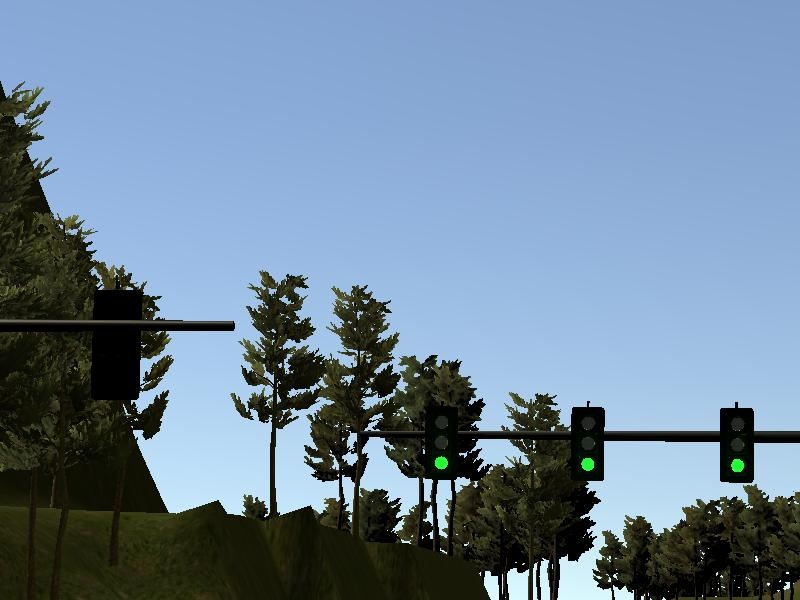GREEN: (720, 408, 755, 483), (571, 407, 605, 481), (425, 409, 455, 477)
